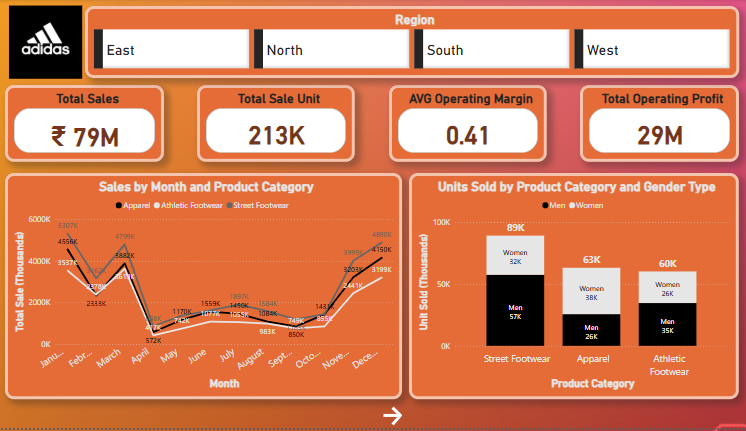

The page's visual inventory and layout, read from the dashboard file:
{"tool":"powerbi","page":{"name":"1","canvas":[1280,720],"ordinal":0},"visuals":[{"type":"cardVisual","title":"Total Sales","fields":{"Data":["Sum(AdidasSalesdata.Total Sales)"]},"box":[30.2,144.2,267.1,129.3],"z":0},{"type":"cardVisual","title":"Total Operating Profit","fields":{"Data":["Sum(AdidasSalesdata.Operating Profit)"]},"box":[996.1,144.2,267.1,129.3],"z":1000},{"type":"cardVisual","title":"AVG Operating Margin","fields":{"Data":["Avg(AdidasSalesdata.Operating Margin)"]},"box":[675.3,144.2,265.4,129.3],"z":2000},{"type":"cardVisual","title":"Total Sale Unit","fields":{"Data":["Sum(AdidasSalesdata.Units Sold)"]},"box":[352.8,144.2,265.4,129.3],"z":3000},{"type":"lineChart","title":"Sales by Month and Product Category","fields":{"Category":["AdidasSalesdata.Invoice Date.Variation.Date Hierarchy.Month"],"Y":["Sum(AdidasSalesdata.Total Sales)"],"Series":["AdidasSalesdata.Product Category"]},"box":[30.2,292.3,666.9,379.6],"z":4000},{"type":"columnChart","title":"Units Sold by Product Category and Gender Type","fields":{"Series":["AdidasSalesdata.Gender Type"],"Category":["AdidasSalesdata.Product Category"],"Y":["Sum(AdidasSalesdata.Units Sold)"]},"box":[708.9,292.3,554.3,379.6],"z":5000},{"type":"image","box":[31.9,0,132.7,144.5],"z":6000},{"type":"advancedSlicerVisual","fields":{"Values":["AdidasSalesdata.Region"]},"box":[164.6,11.8,1098.6,120.9],"z":7000},{"type":"actionButton","box":[640,680.4,101.1,40.4],"z":7002}]}

Visuals, with their boxes in screenshot pixels (x1, y1, x2, y2), scaled from the page's 1280x720 canvas onto the 746x431 screenshot:
"Total Sales" cardVisual: [left=18, top=86, right=173, bottom=164]
"Total Operating Profit" cardVisual: [left=581, top=86, right=736, bottom=164]
"AVG Operating Margin" cardVisual: [left=394, top=86, right=548, bottom=164]
"Total Sale Unit" cardVisual: [left=206, top=86, right=360, bottom=164]
"Sales by Month and Product Category" lineChart: [left=18, top=175, right=406, bottom=402]
"Units Sold by Product Category and Gender Type" columnChart: [left=413, top=175, right=736, bottom=402]
image: [left=19, top=0, right=96, bottom=86]
advancedSlicerVisual - AdidasSalesdata.Region: [left=96, top=7, right=736, bottom=79]
actionButton: [left=373, top=407, right=432, bottom=430]
